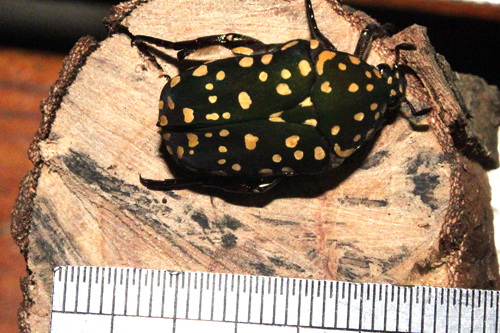Protaetia_niveoguttata: (127, 24, 439, 212)
